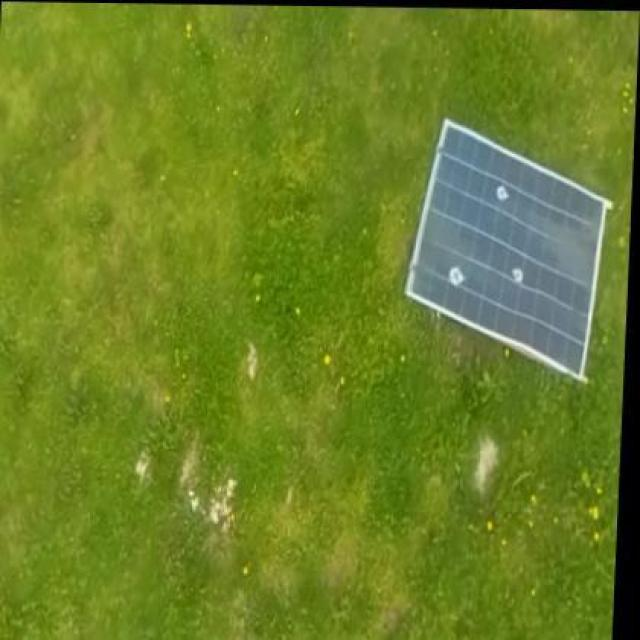soiled: (402, 115, 608, 376)
